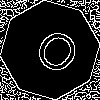O: (25, 25, 84, 86)
